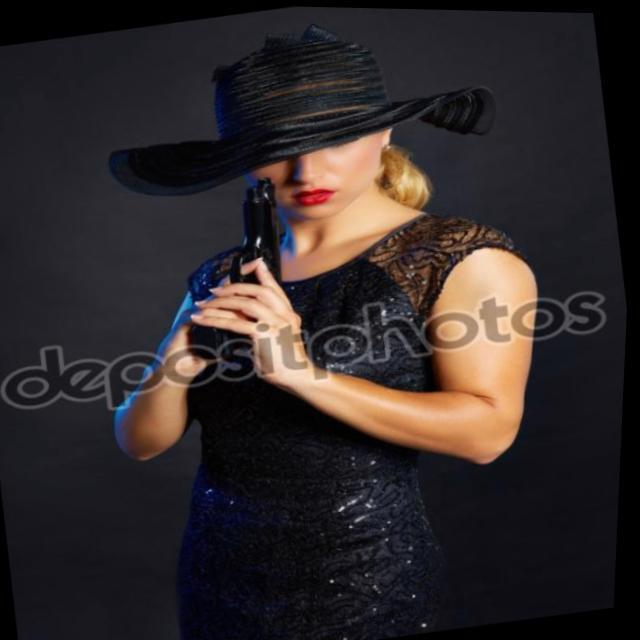weapon: (165, 171, 307, 374)
